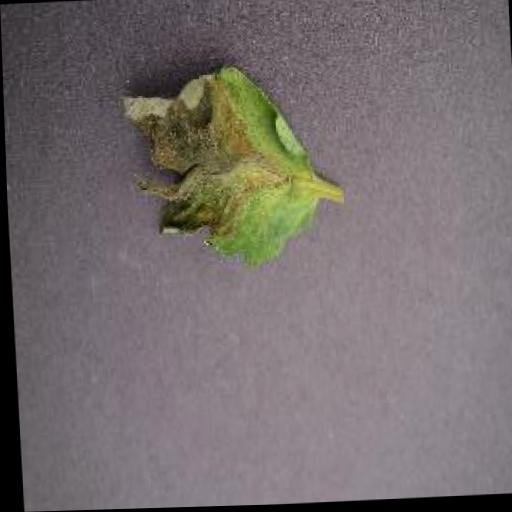Late Blight: (118, 64, 322, 270)
